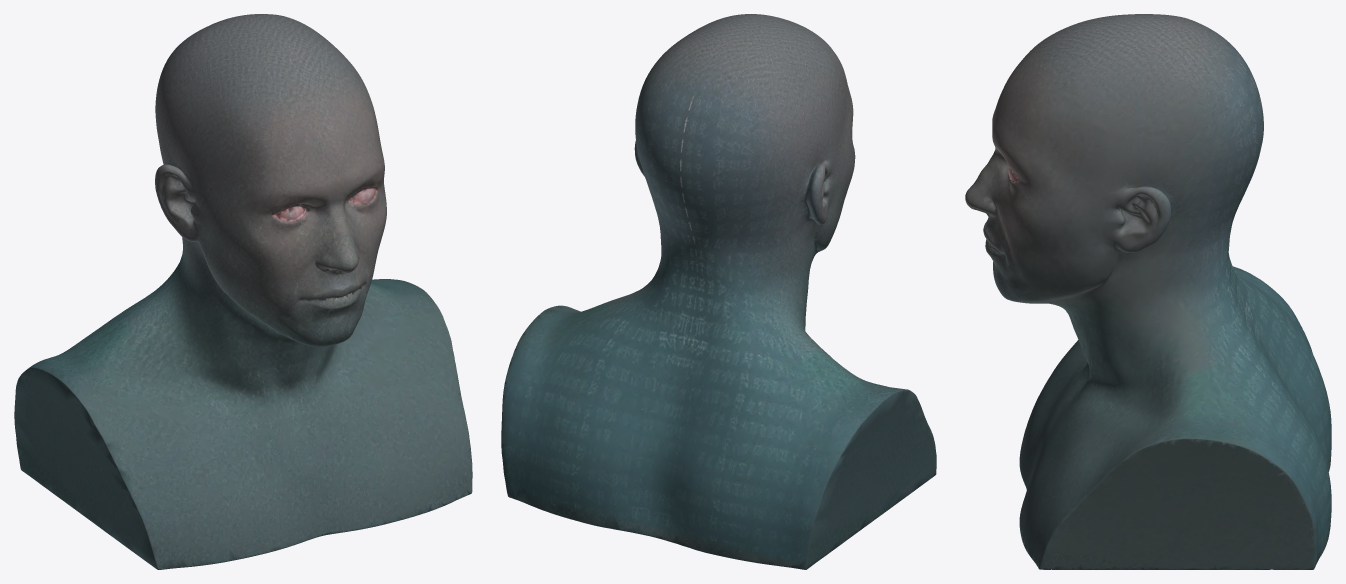
The model's file is 2140data.glb.
3 views of the same model, side by side, from view 1: azimuth 30°, elevation 25°; view 2: azimuth 150°, elevation 25°; view 3: azimuth 270°, elevation 25° (orthographic). The views are drawn at different scales.
Visible parts, largest first — view 1: mesh_node; view 2: mesh_node; view 3: mesh_node.
Boxes of the visible parts, <box> form: mesh_node: <box>14,14,472,569</box>; mesh_node: <box>501,14,936,569</box>; mesh_node: <box>965,14,1331,569</box>.
Bounding box in the file's own units: 1.56 × 1.9 × 1.35.
Materials: 1 (1 with a texture image).
